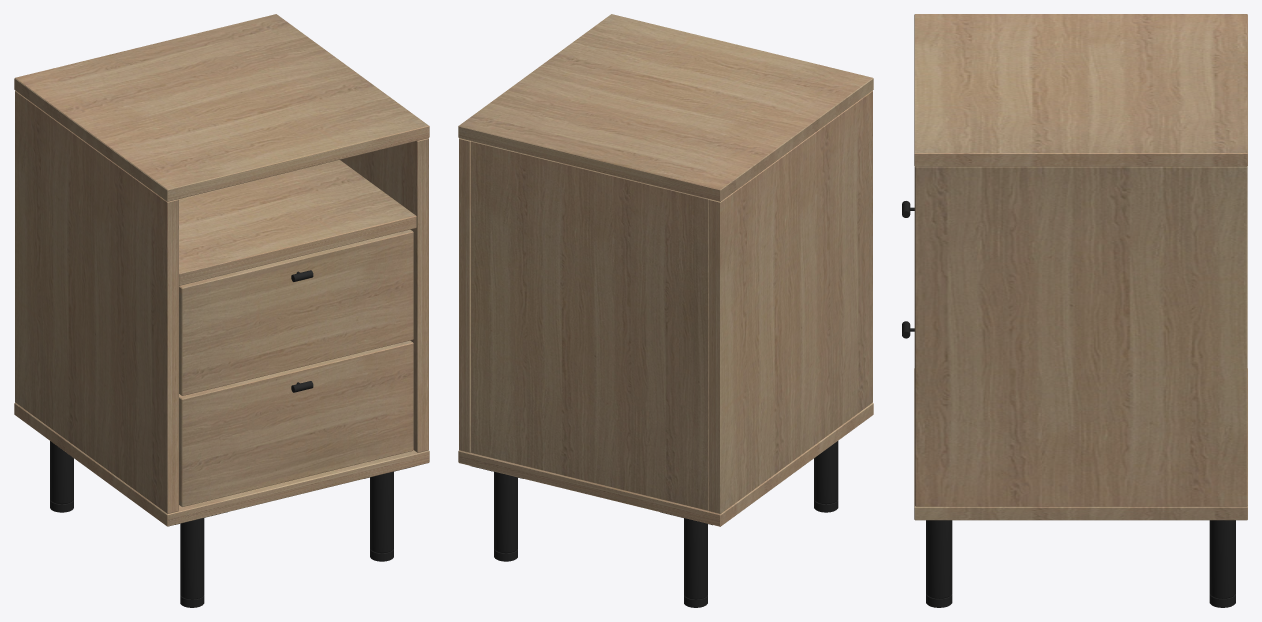
The model's file is adult_ns.glb.
3 renders of one model, left to right at view 1: azimuth 30°, elevation 25°; view 2: azimuth 150°, elevation 25°; view 3: azimuth 270°, elevation 25°, orthographic. The views are drawn at different scales.
Parts seen in each view (by area): view 1: BP_ADIC01104; view 2: BP_ADIC01104; view 3: BP_ADIC01104.
Boxes of the visible parts, x1,y1,x2,y2 form: BP_ADIC01104: [14, 14, 429, 607]; BP_ADIC01104: [458, 14, 873, 607]; BP_ADIC01104: [902, 14, 1247, 607].
Size of the model in its own units: 0.396 by 0.6201 by 0.4148.
2 materials, 1 textured.
